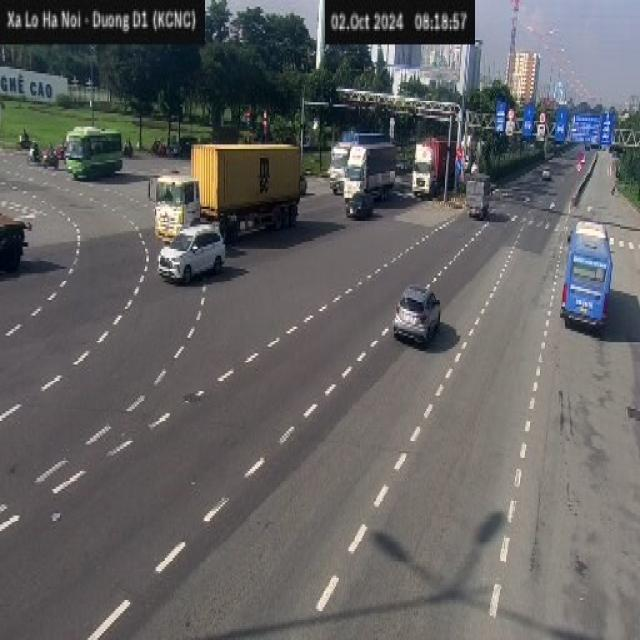bus: (562, 206, 616, 328), (65, 123, 126, 182)
car: (152, 225, 239, 287), (391, 282, 443, 349), (543, 158, 558, 192)
container-truck: (158, 138, 302, 228), (332, 126, 388, 175), (1, 208, 36, 280), (414, 142, 453, 188)
motorcycle: (39, 149, 60, 172), (24, 145, 44, 164), (15, 134, 33, 154), (124, 145, 136, 163)
person: (122, 121, 136, 148), (32, 126, 45, 154), (141, 182, 158, 202), (46, 126, 57, 156), (21, 119, 29, 144)
truck: (345, 145, 400, 217), (468, 169, 492, 229)
